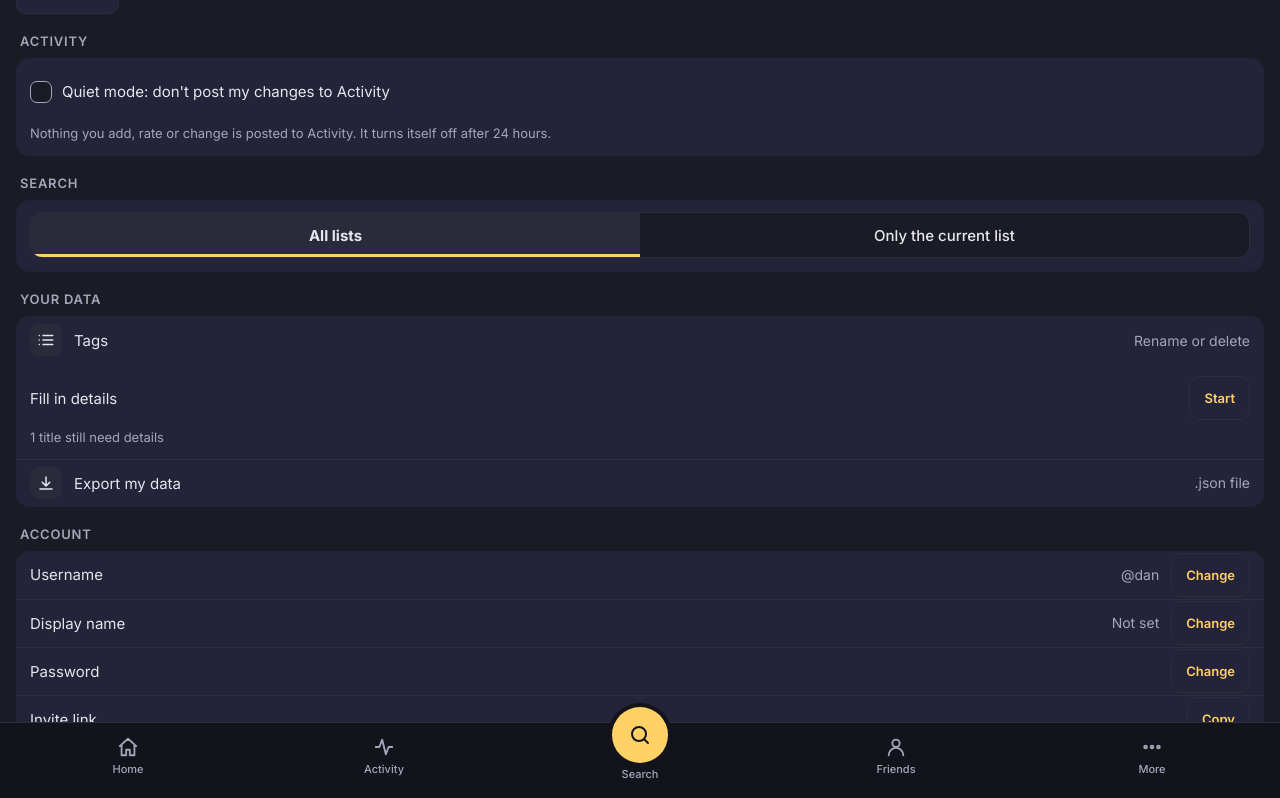
Test: Settings: Fill in details › only fills titles on lists that are switched on
(page scrolled)
Click the button "Start": (1220,398) [1189,376,1250,420]
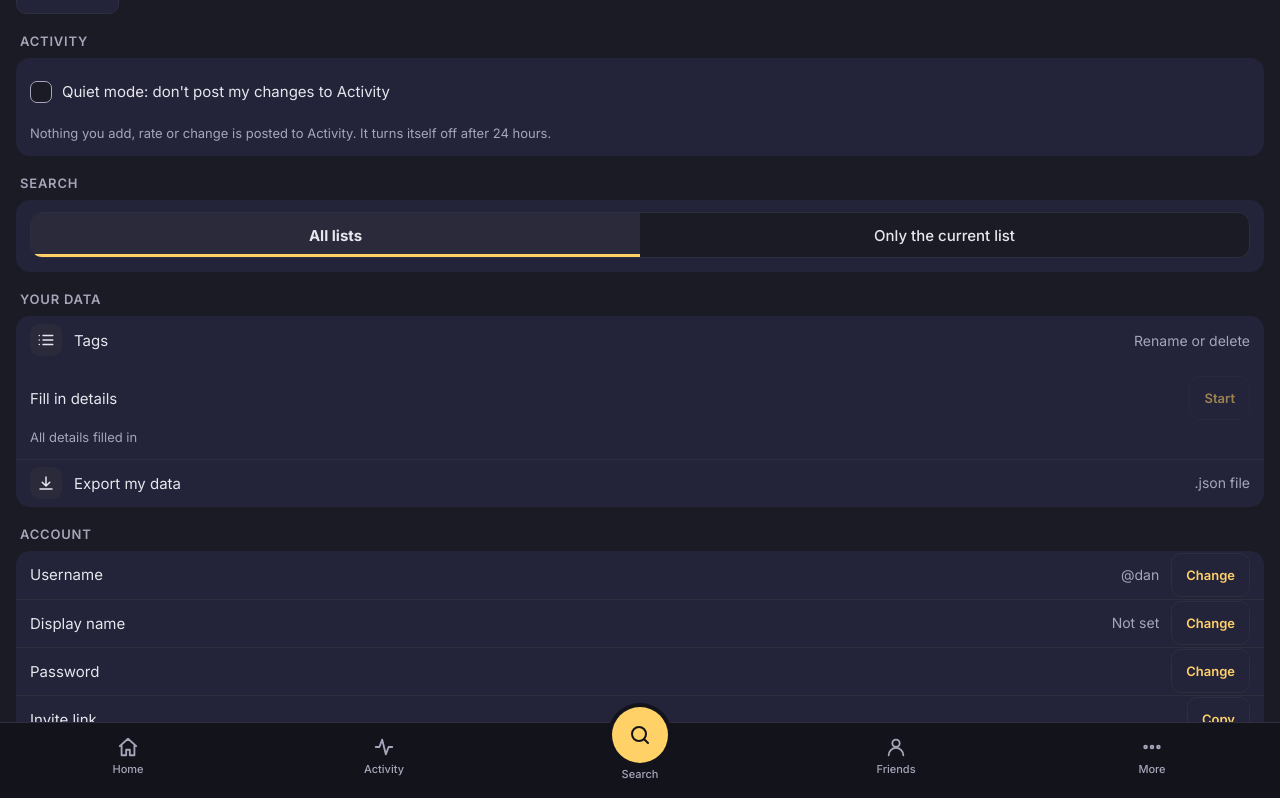
Now the text "All details filled in" is shown, box [30,429,137,445]
